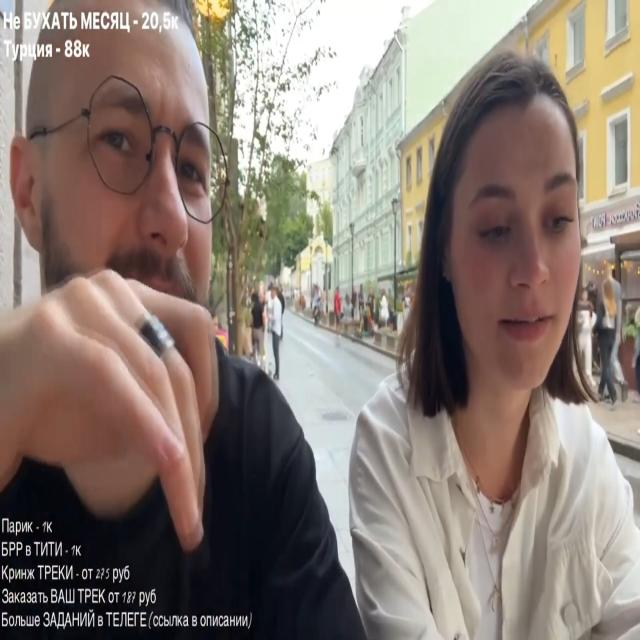Person: (0, 22, 319, 640), (333, 43, 640, 640), (264, 286, 285, 378)
